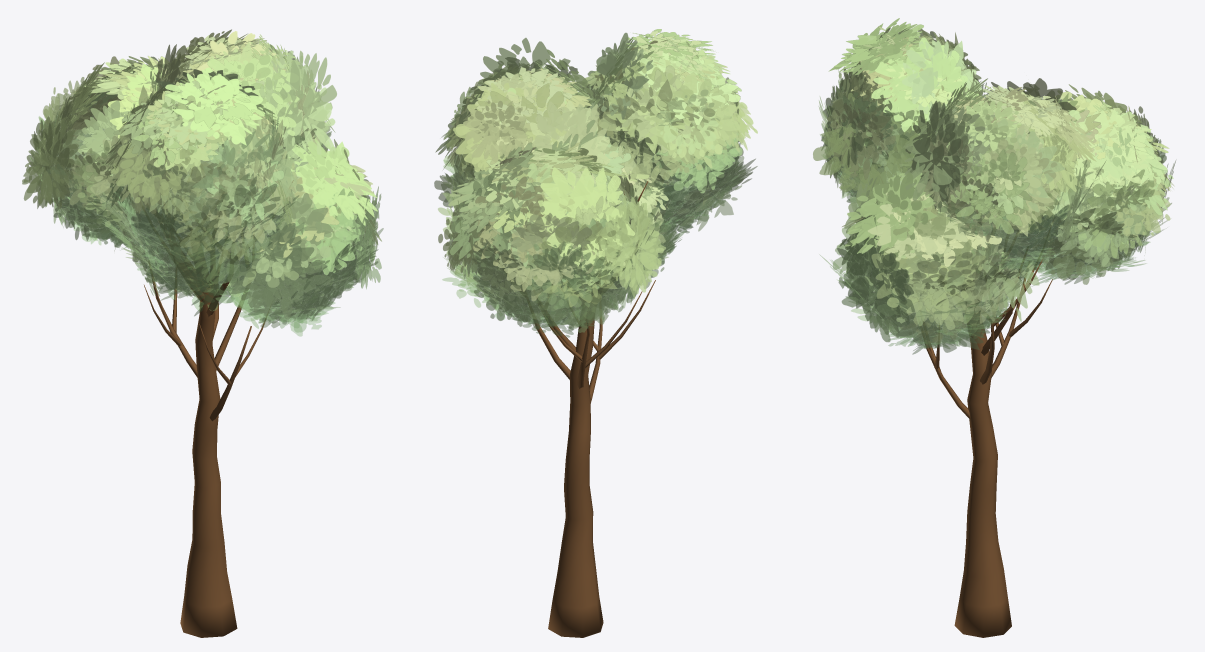
File: test_tree_6.glb
The picture shows the model from 3 angles, left to right: view 1: azimuth 30°, elevation 25°; view 2: azimuth 150°, elevation 25°; view 3: azimuth 270°, elevation 25°; orthographic projection. The views are drawn at different scales.
Visible parts, largest first — view 1: FoilageMaker Tree Export; view 2: FoilageMaker Tree Export; view 3: FoilageMaker Tree Export.
Part boxes in pixels (bbox=[...]): FoilageMaker Tree Export: bbox=[22, 29, 383, 637]; FoilageMaker Tree Export: bbox=[434, 29, 757, 637]; FoilageMaker Tree Export: bbox=[813, 18, 1175, 637].
Size of the model in its own units: 4.21 by 7.9 by 4.74.
Materials: 2 (1 with a texture image).
